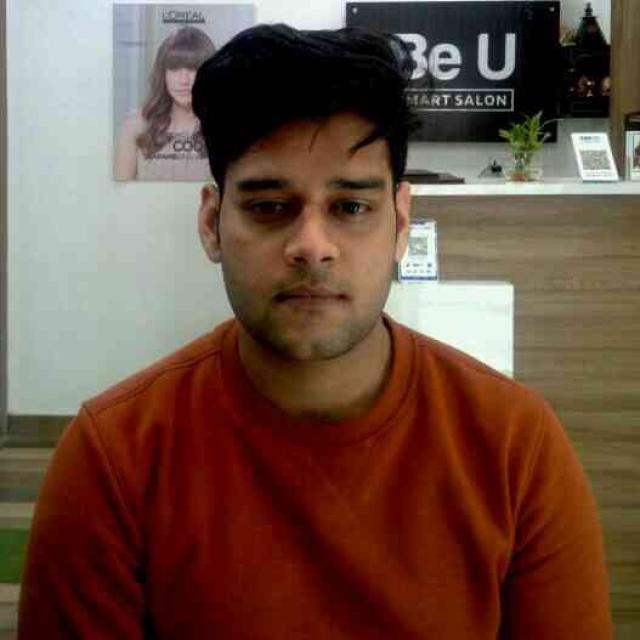Puffy Eyes - v3 Dark Circle: (240, 195, 302, 231), (326, 214, 375, 234)
